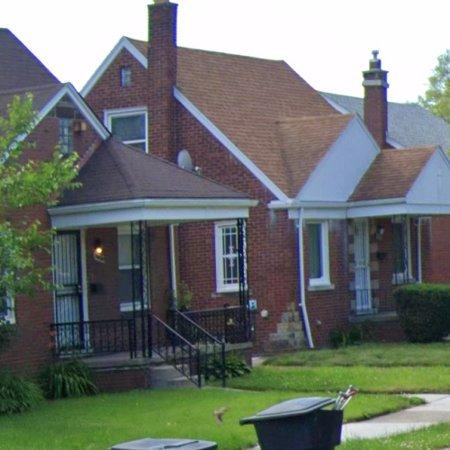chimneys: (148, 0, 178, 159), (364, 50, 389, 148)
